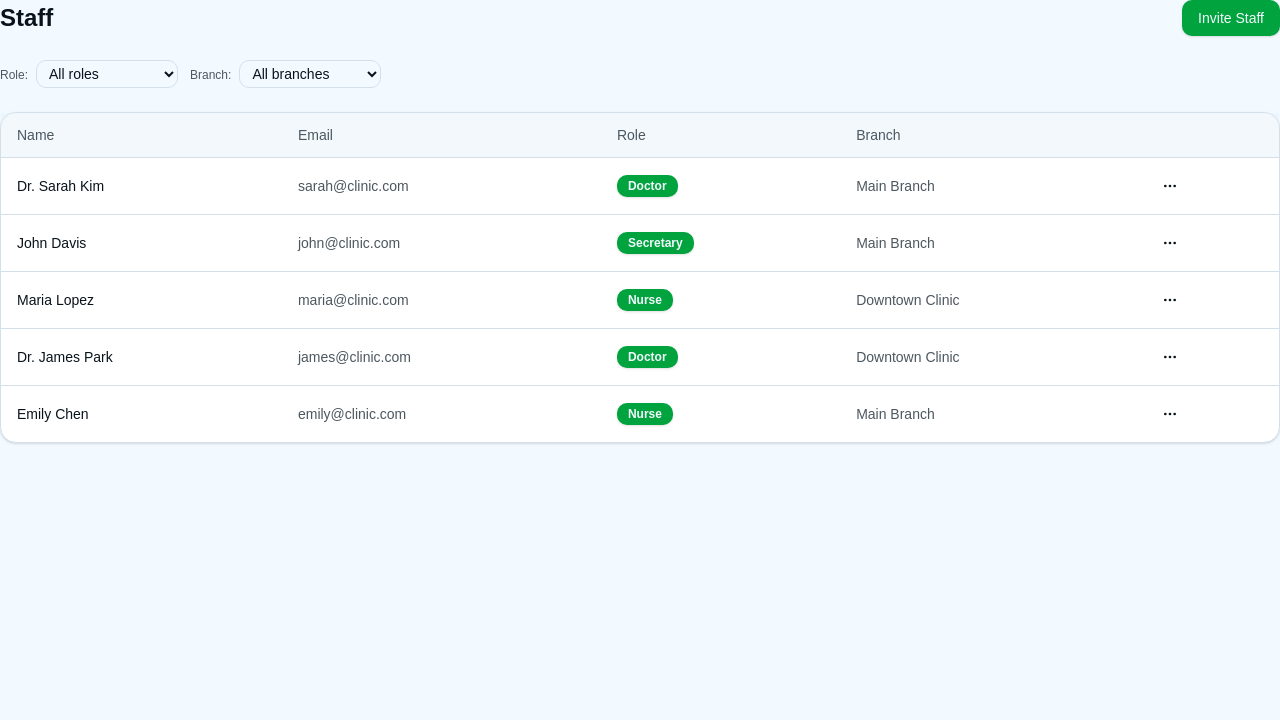
Test case: StaffPage › shows invite form when Invite Staff clicked
Expected: the text "Dr. Sarah Kim" is shown, [1,158,282,214]
Click the button "Invite Staff" at point(1231, 18), box [1182,0,1279,36]
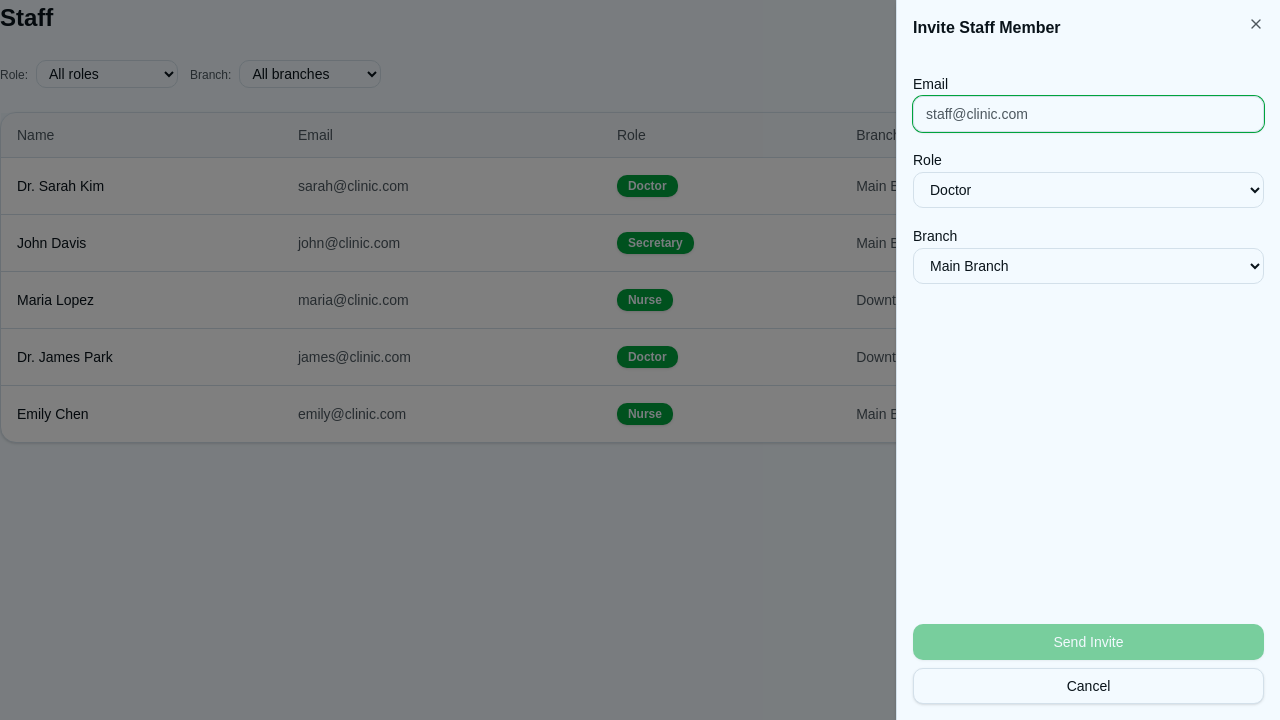
Expected: the field labelled "Email" is shown, [913,96,1264,132]
